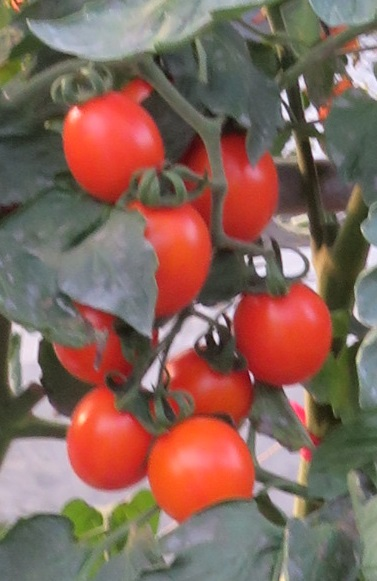orange: (149, 407, 260, 523), (66, 92, 172, 200), (235, 278, 336, 384), (68, 385, 164, 486), (190, 135, 278, 239), (150, 194, 210, 314), (161, 338, 246, 417)
